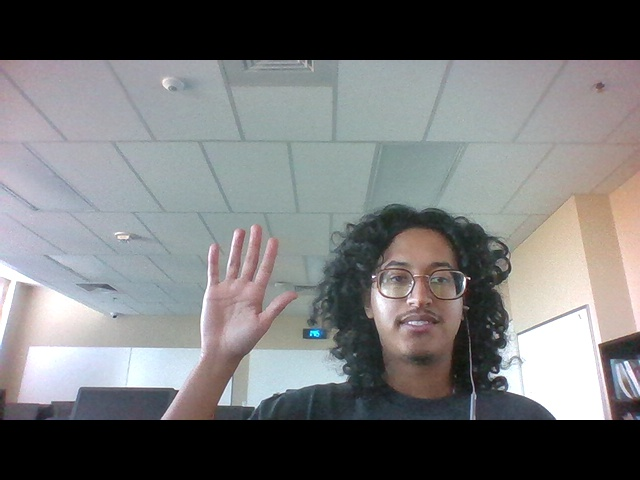hello: (196, 220, 304, 366)
